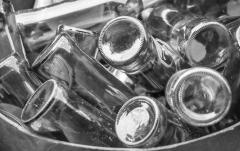glass: (0, 0, 240, 148)
